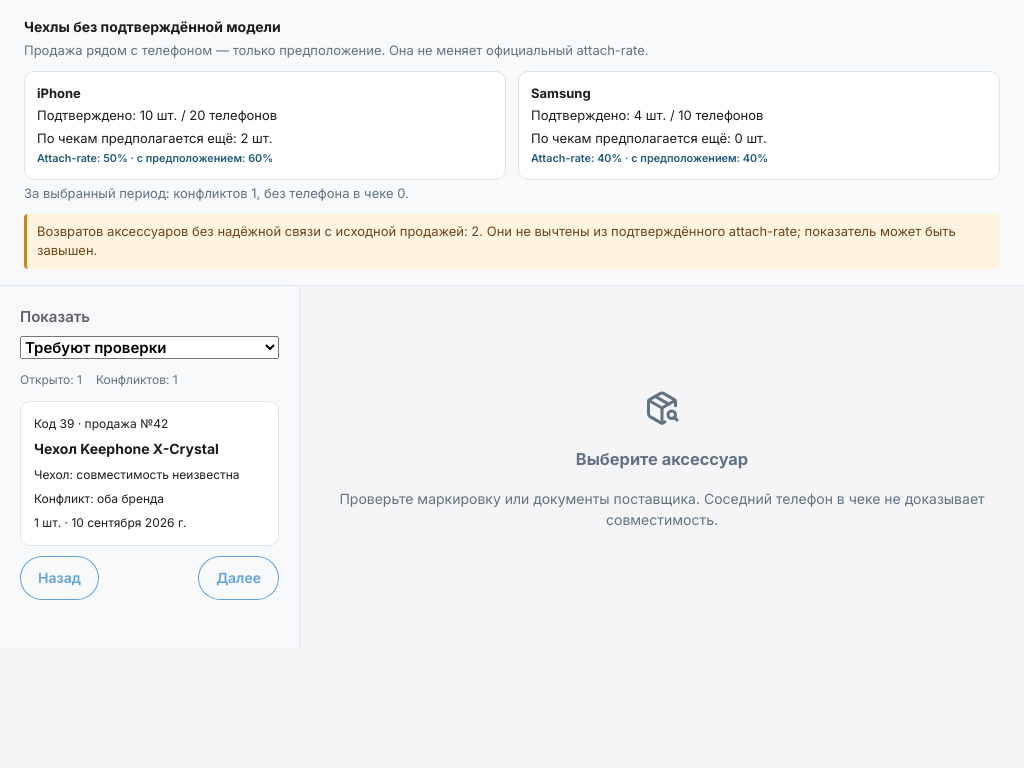
Test: case attach review › warns when a return cannot be linked to the original case sale
The width and height of the screenshot is (1024, 768).
What coordinates should you click on to do the following:
click the button "Чехол Keephone X-Crystal"
I would click on:
 (150, 473)
Its box is 20,401 -> 279,546.
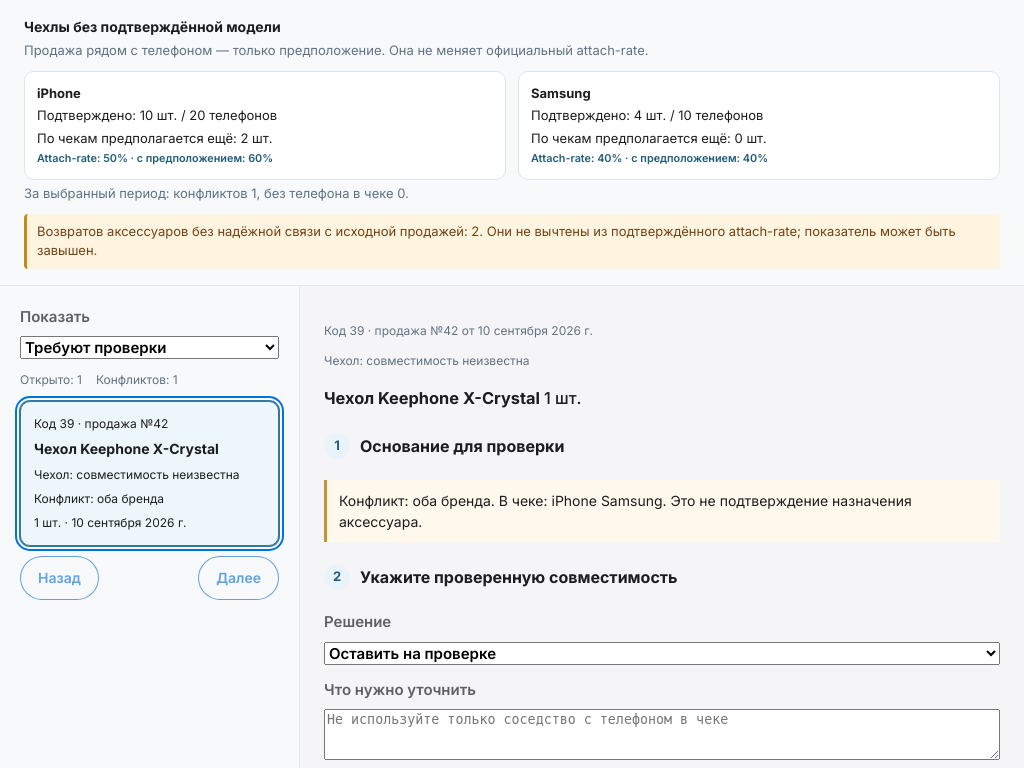
Check: the message shows "Возвратов аксессуаров без надёжной связи", box 37,223 -> 471,239
Check: the heading "Чехол Keephone X-Crystal 1 шт." is shown, box 324,388 -> 582,408
